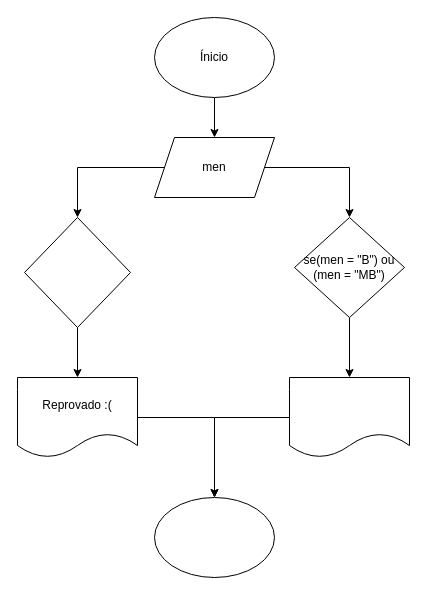
The diagram is 427 pixels wide and 595 high, and some of its shapes have lost their labels. Here are the shapes that lost their labels. From the top down, the centre of each, then its label:
(x=77, y=272): se(men= "I") ou (men= "R")
(x=349, y=417): Aprovado , meus parabens :D
